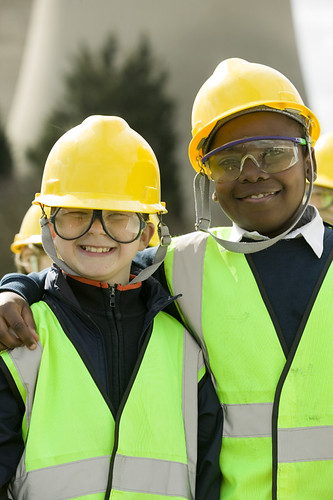person hardhat: (1, 105, 197, 500), (180, 56, 333, 500), (1, 194, 63, 281), (301, 129, 333, 232)
